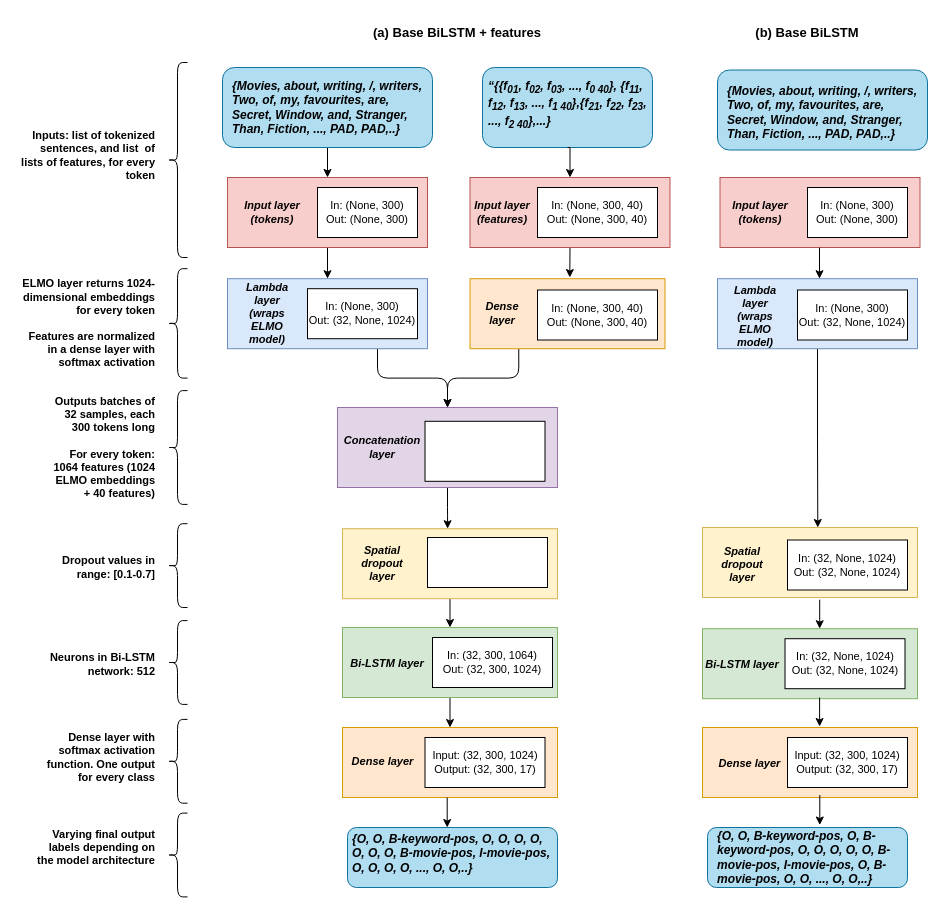
Some shapes in this 945 by 914 pixel diagram are drawn without their labels. Each missing label, with the box of its shape:
In: (32, 300, 1064) Out: (32, 300, 1064): (426, 536, 548, 588)
In: [(32, None, 1024), (None, 300, 40)] Out: (32, 300, 1064): (424, 420, 545, 481)
